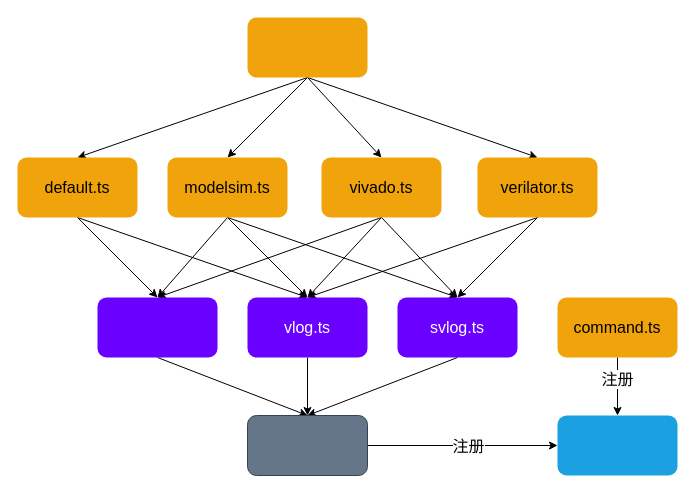
This 694x493 diagram has some shape labels left out. Each missing label, with the box of its shape:
base.ts: (247, 17, 367, 77)
index.ts: (246, 414, 368, 476)
vhdl.ts: (97, 297, 217, 357)
全局 LSP: (557, 415, 677, 475)
